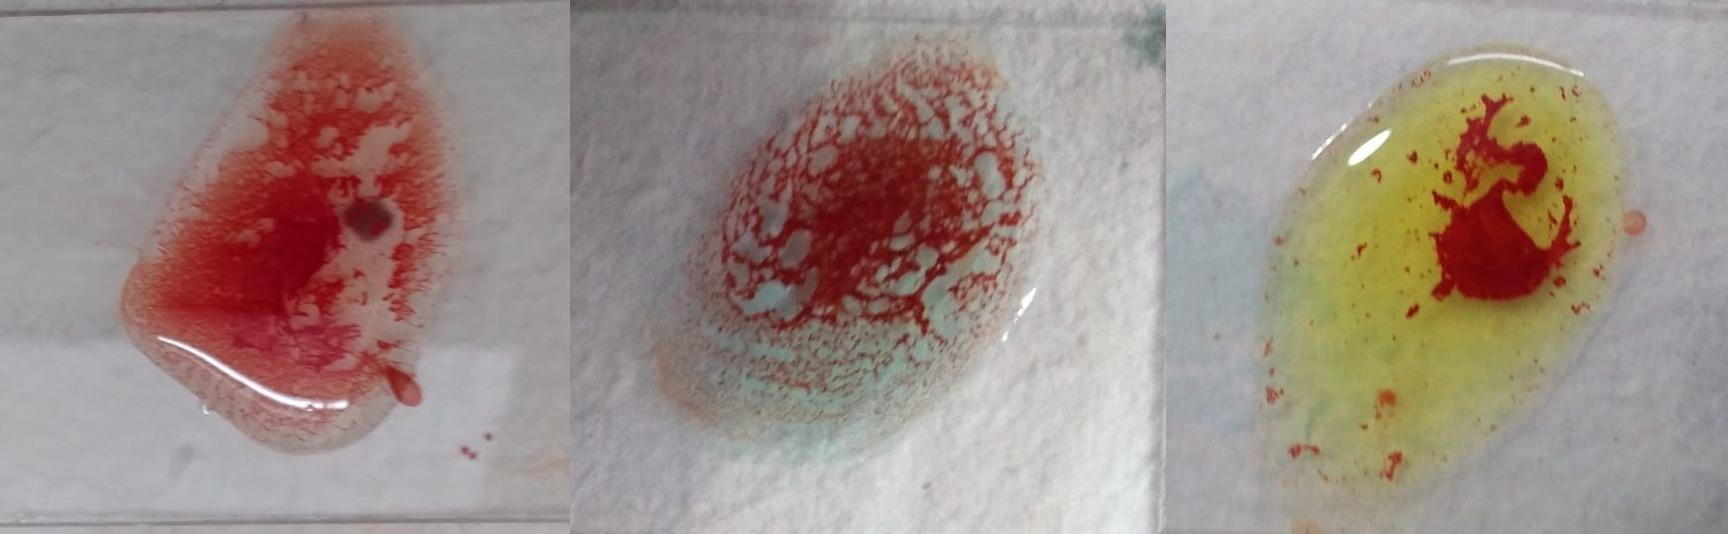A: (676, 28, 1041, 431)
B: (1268, 54, 1630, 481)
D: (130, 32, 443, 458)
